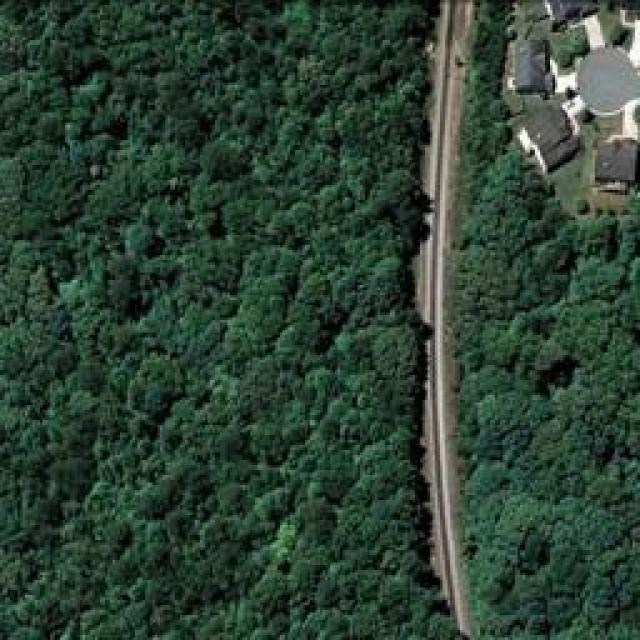Forest: (0, 0, 638, 638)
Highway: (412, 0, 480, 638)
